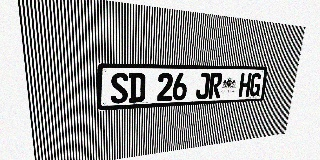2: (157, 73, 173, 101)
6: (172, 73, 188, 101)
D: (129, 73, 145, 103)
G: (249, 73, 262, 97)
H: (238, 73, 252, 97)
J: (195, 73, 210, 99)
R: (208, 73, 223, 99)
S: (110, 73, 128, 104)
